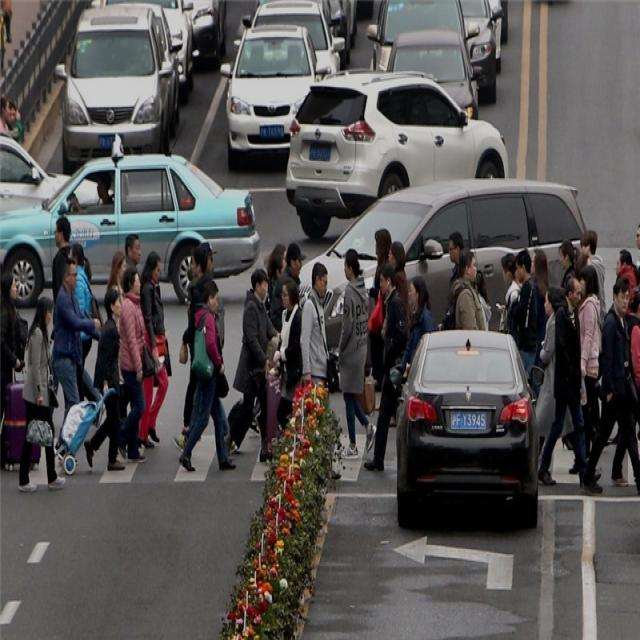non-fight: (537, 275, 600, 488), (586, 277, 640, 496), (51, 254, 102, 463), (178, 276, 232, 470), (360, 263, 410, 472), (227, 270, 280, 460), (17, 294, 66, 498), (86, 288, 132, 473), (336, 256, 376, 468), (119, 270, 152, 464), (140, 253, 172, 450), (575, 264, 601, 464), (393, 276, 437, 389), (274, 280, 304, 441), (0, 269, 25, 457), (300, 265, 330, 407), (366, 231, 391, 387), (267, 240, 308, 335), (529, 251, 551, 385), (509, 255, 535, 361), (452, 252, 484, 331), (442, 233, 466, 330), (388, 240, 411, 340), (582, 234, 607, 318), (497, 254, 519, 333), (610, 250, 637, 312), (0, 96, 23, 145), (558, 242, 578, 292)
